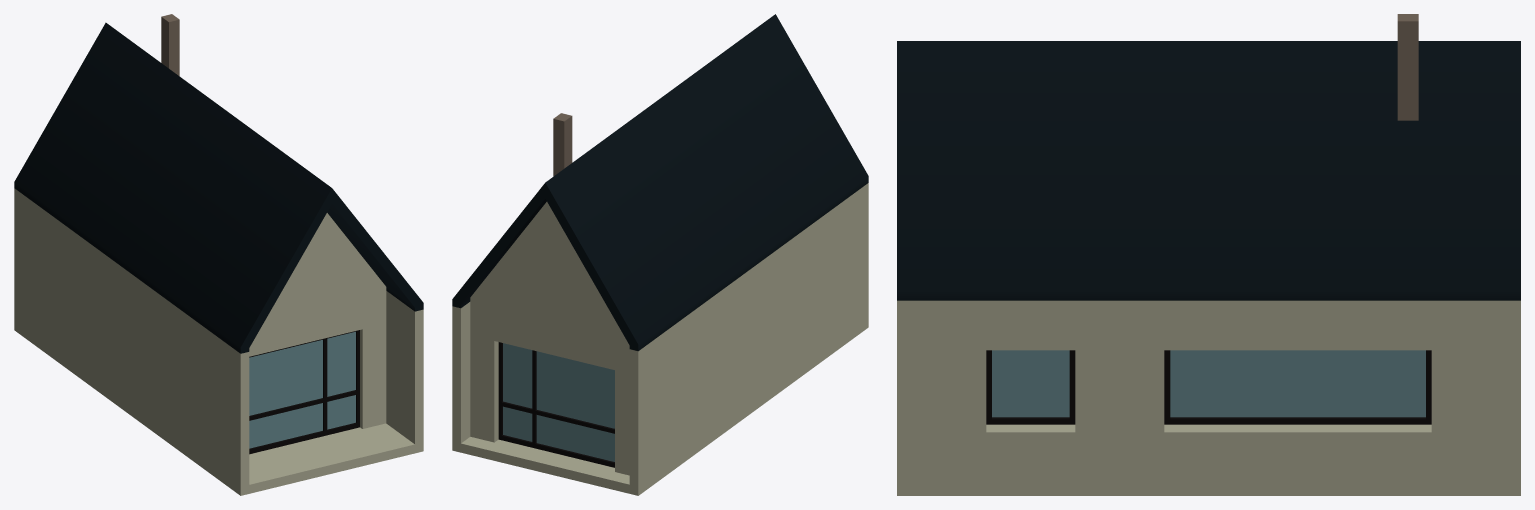
The model's file is BuildingResident9.fbx.
3 views of the same model, side by side, from view 1: azimuth 30°, elevation 25°; view 2: azimuth 150°, elevation 25°; view 3: azimuth 270°, elevation 25° (orthographic). The views are drawn at different scales.
Parts seen in each view (by area): view 1: BuildingResident9; view 2: BuildingResident9; view 3: BuildingResident9.
Part boxes in pixels (left/top/right/bottom): BuildingResident9: left=14, top=14, right=423, bottom=495; BuildingResident9: left=452, top=14, right=868, bottom=495; BuildingResident9: left=897, top=14, right=1520, bottom=495.
Bounding box in the file's own units: 11.95 × 19.61 × 25.61.
